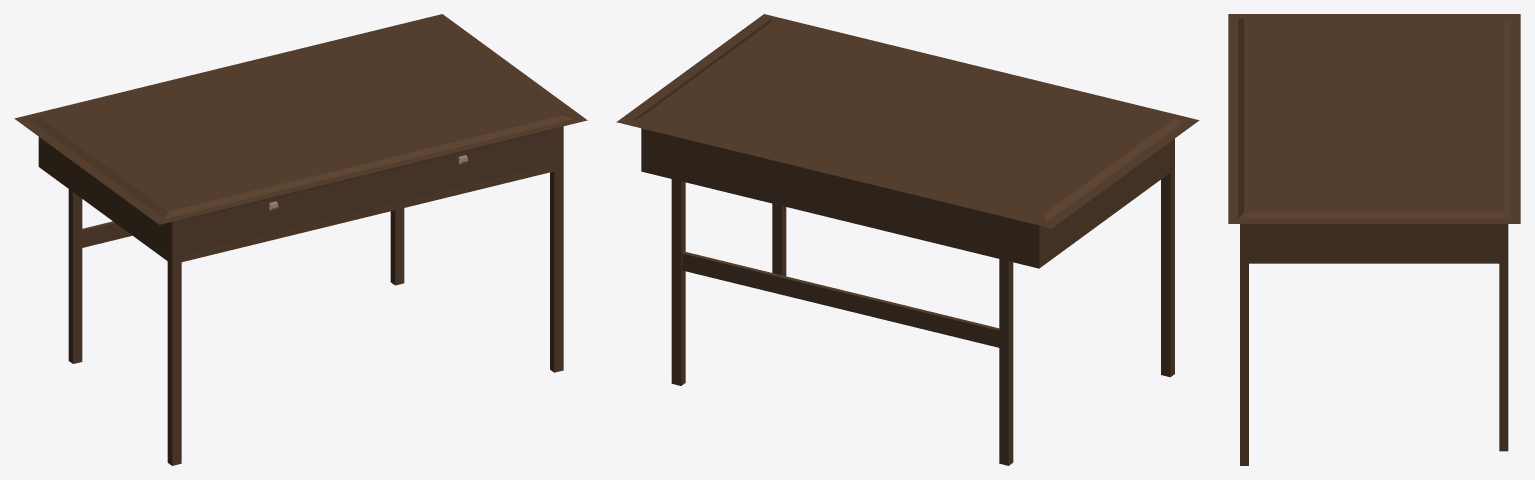
Rendered from Mesa.fbx.
3 renders of one model, left to right at view 1: azimuth 30°, elevation 25°; view 2: azimuth 150°, elevation 25°; view 3: azimuth 270°, elevation 25°, orthographic.
Visible parts, largest first — view 1: Escrivania.001; view 2: Escrivania.001; view 3: Escrivania.001.
Part boxes in pixels (x1=…): Escrivania.001: x1=14, y1=14, x2=587, y2=465; Escrivania.001: x1=616, y1=14, x2=1199, y2=465; Escrivania.001: x1=1228, y1=14, x2=1520, y2=465.
Bounding box in the file's own units: 111 × 62.72 × 65.3.
